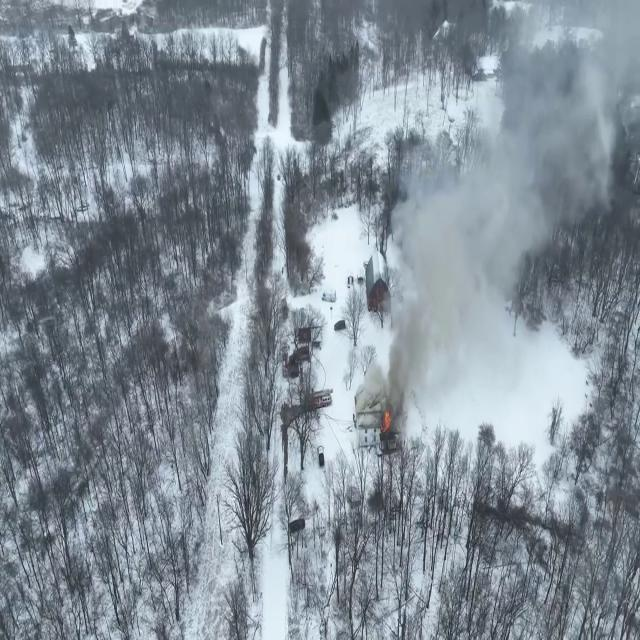Smoke: (382, 6, 607, 448)
